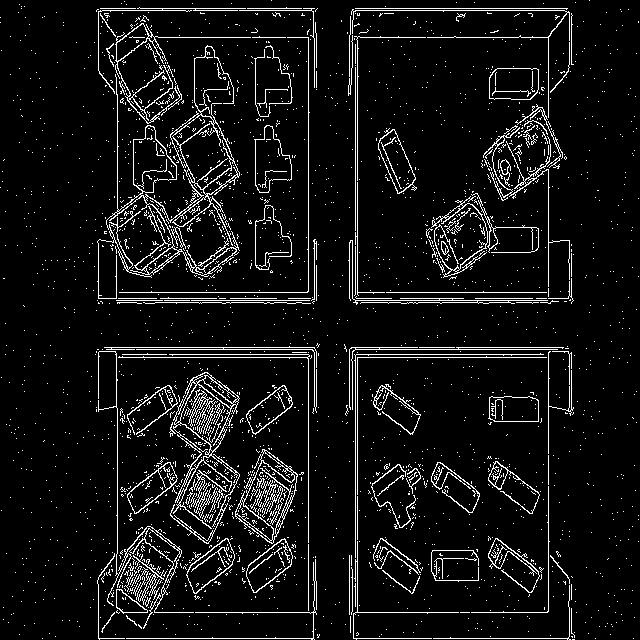Battery: (121, 458, 178, 514), (120, 387, 180, 438), (488, 538, 542, 594), (186, 538, 235, 599), (489, 459, 539, 514), (374, 538, 421, 594), (376, 129, 416, 194), (245, 539, 292, 594), (431, 462, 480, 514), (372, 384, 421, 435), (246, 385, 292, 436), (489, 69, 540, 100), (489, 392, 539, 422), (431, 550, 478, 581), (490, 228, 538, 252)
Pump: (100, 16, 186, 124), (482, 106, 564, 201), (108, 526, 181, 629), (426, 192, 498, 279), (106, 192, 180, 276), (171, 454, 239, 544), (235, 449, 298, 544), (172, 194, 239, 279), (170, 112, 238, 195), (171, 372, 239, 452)
Regulator: (371, 464, 421, 529)
Sensor: (132, 125, 178, 194), (255, 45, 292, 118), (255, 125, 292, 194), (194, 46, 234, 109), (255, 204, 291, 270)
